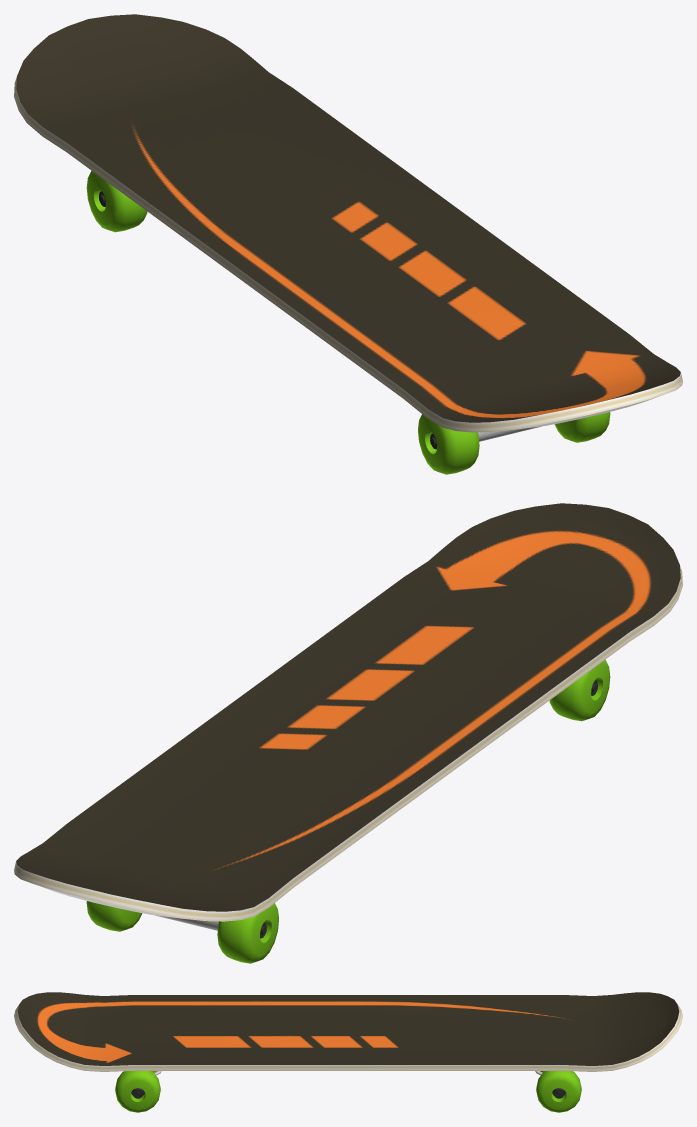
The model's file is sweethome3d-scopia-skateboard-296.glb.
The picture shows the model from 3 angles, top to bottom: view 1: azimuth 30°, elevation 25°; view 2: azimuth 150°, elevation 25°; view 3: azimuth 270°, elevation 25°; orthographic projection. The views are drawn at different scales.
Visible parts, largest first — view 1: Circle, wheels_Cylinder; view 2: Circle, wheels_Cylinder; view 3: Circle, wheels_Cylinder.
Part boxes in pixels (bbox=[...]): Circle: bbox=[14, 14, 682, 432]; wheels_Cylinder: bbox=[86, 170, 610, 474]; Circle: bbox=[14, 503, 682, 921]; wheels_Cylinder: bbox=[86, 659, 610, 963]; Circle: bbox=[14, 992, 682, 1071]; wheels_Cylinder: bbox=[115, 1071, 581, 1112].
Bounding box in the file's own units: 20 × 10.43 × 80.23.
Materials: 5 (1 with a texture image).
